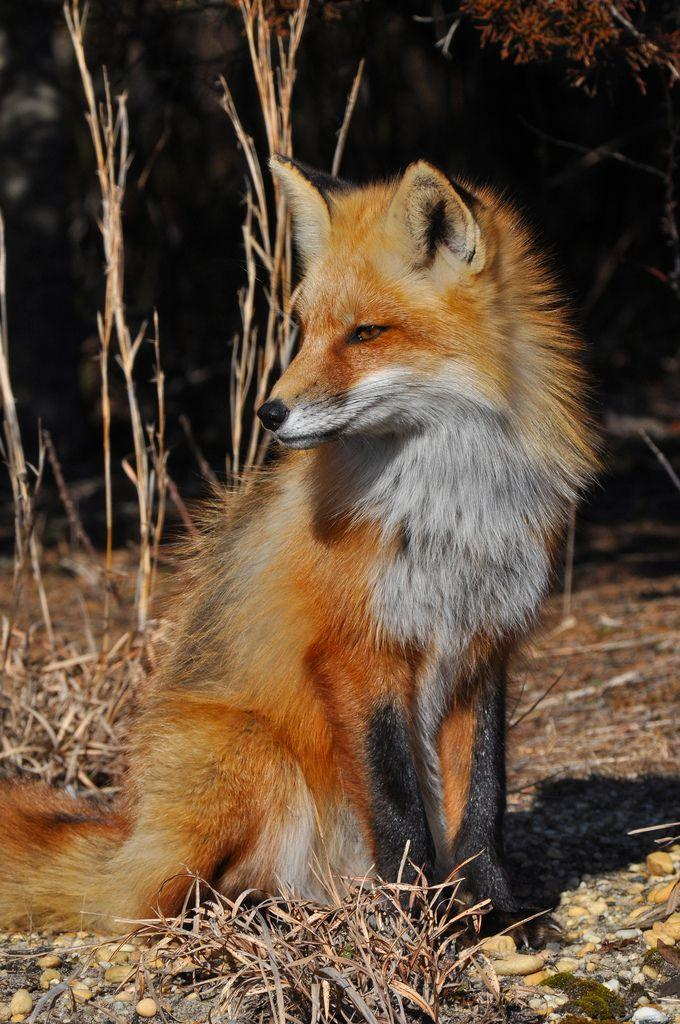fox: (10, 137, 604, 944)
